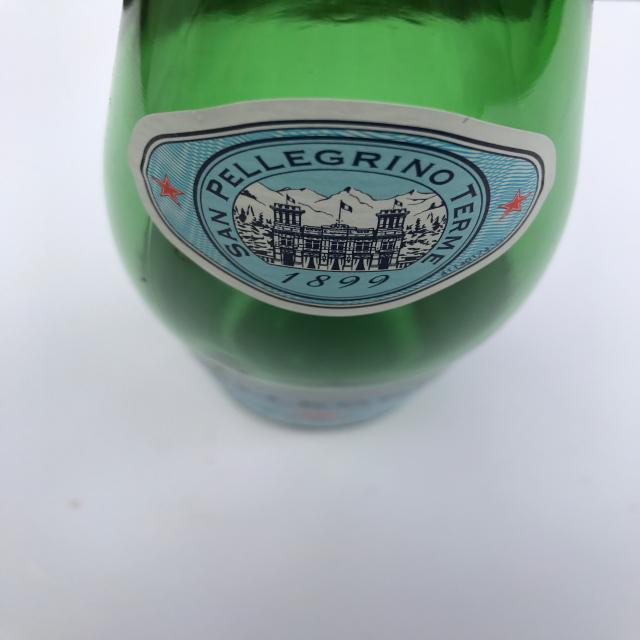glass: (97, 0, 590, 436)
